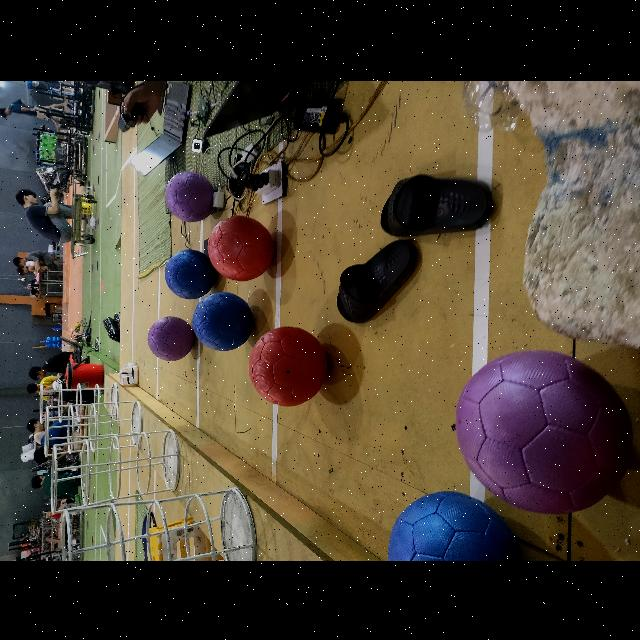B: (387, 490, 523, 560), (192, 290, 254, 350), (164, 248, 216, 298)
P: (456, 350, 632, 512), (165, 170, 213, 220), (148, 316, 195, 360)
R: (249, 326, 327, 404), (206, 216, 274, 280)
